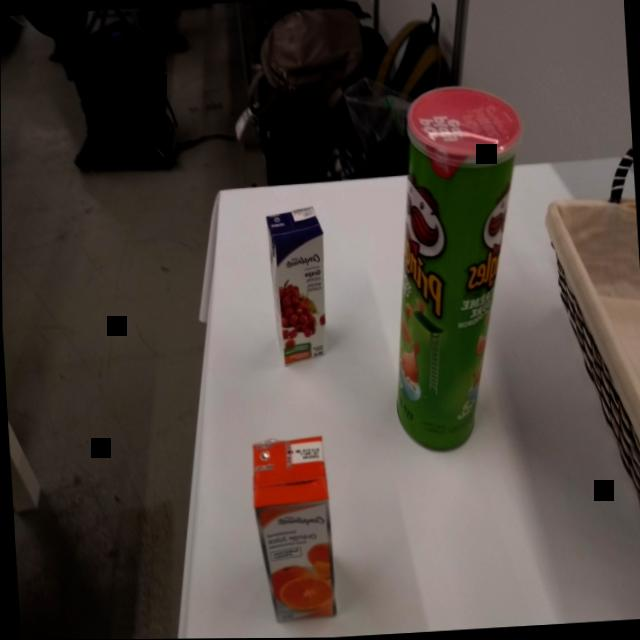grape_juice: (261, 203, 333, 372)
orange_juice: (246, 430, 342, 631)
pringles: (373, 79, 545, 459)
